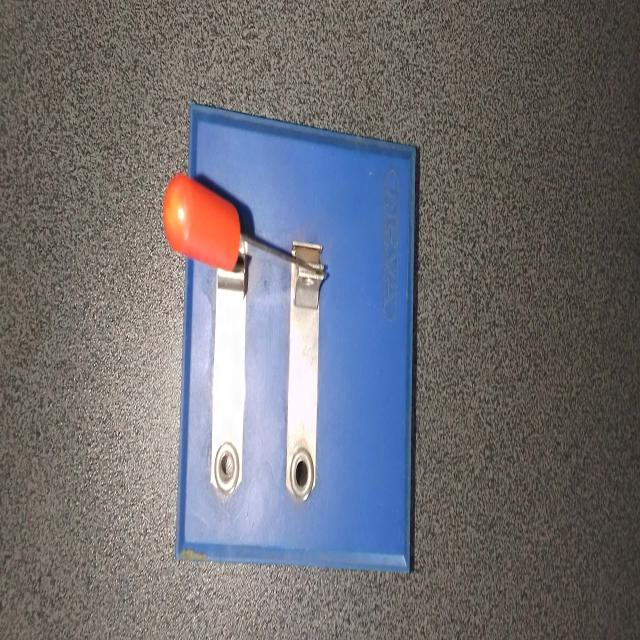L Switch: (152, 88, 434, 598)
